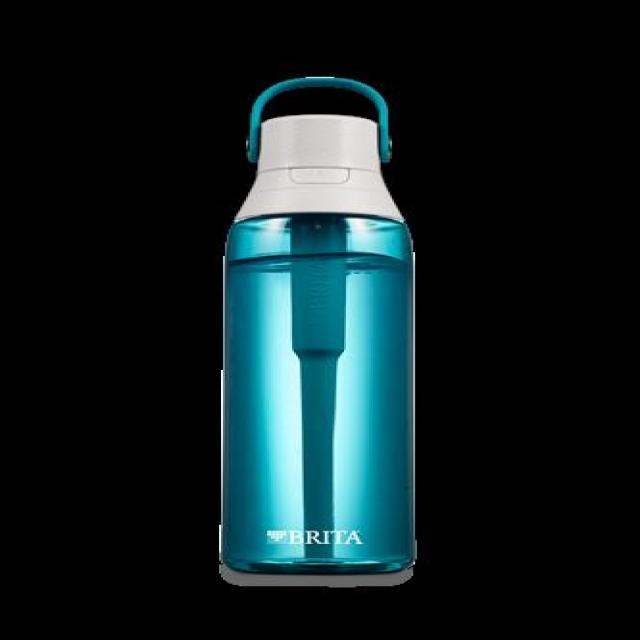plastic_bottle: (215, 75, 415, 577)
